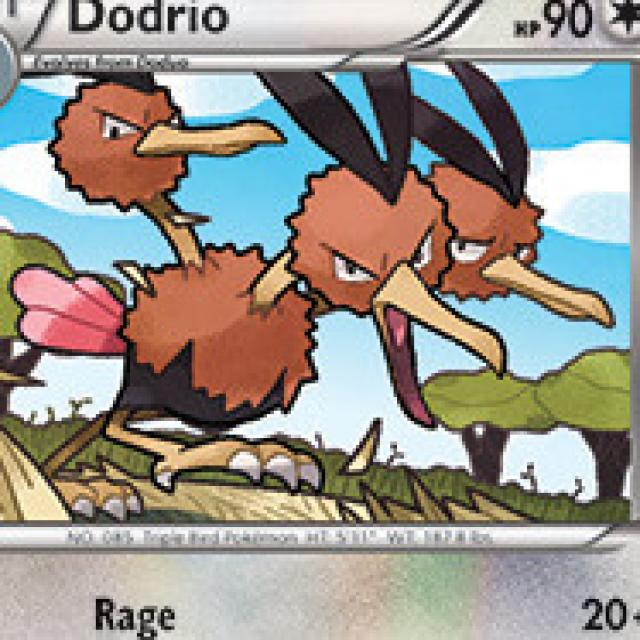Dodrio: (18, 77, 572, 490)
